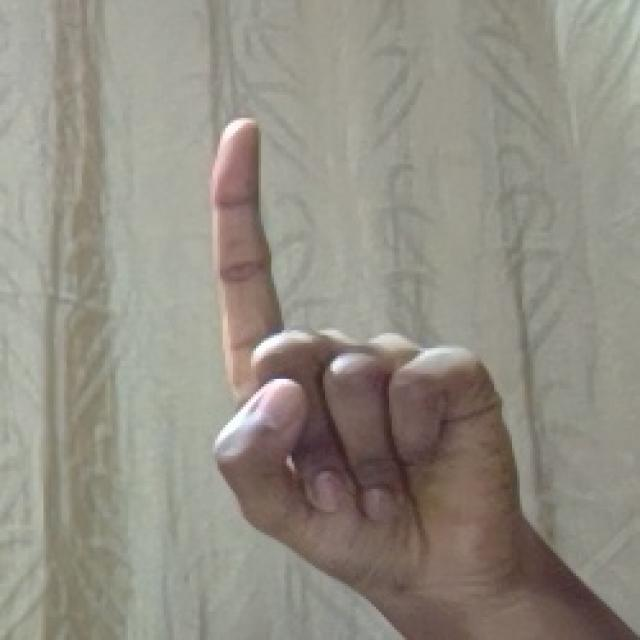Numeric-1: (204, 113, 528, 607)
